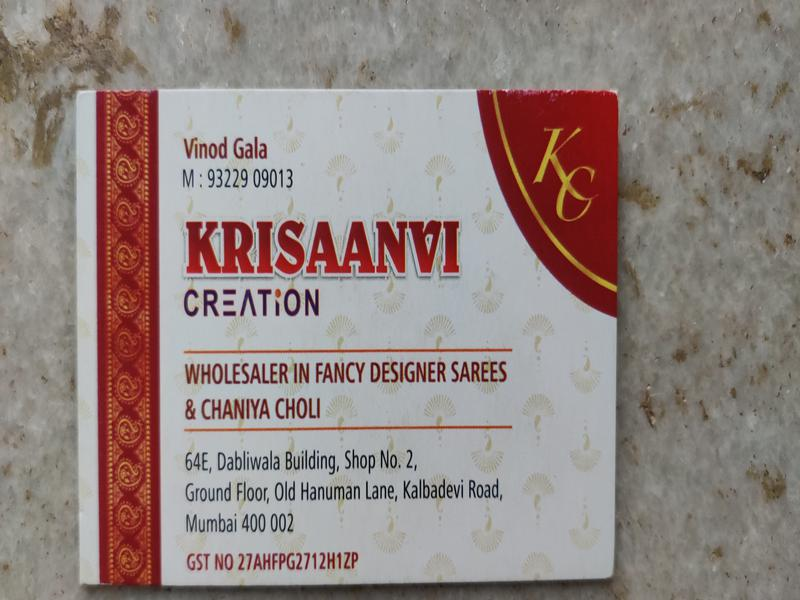card: (74, 90, 621, 584)
